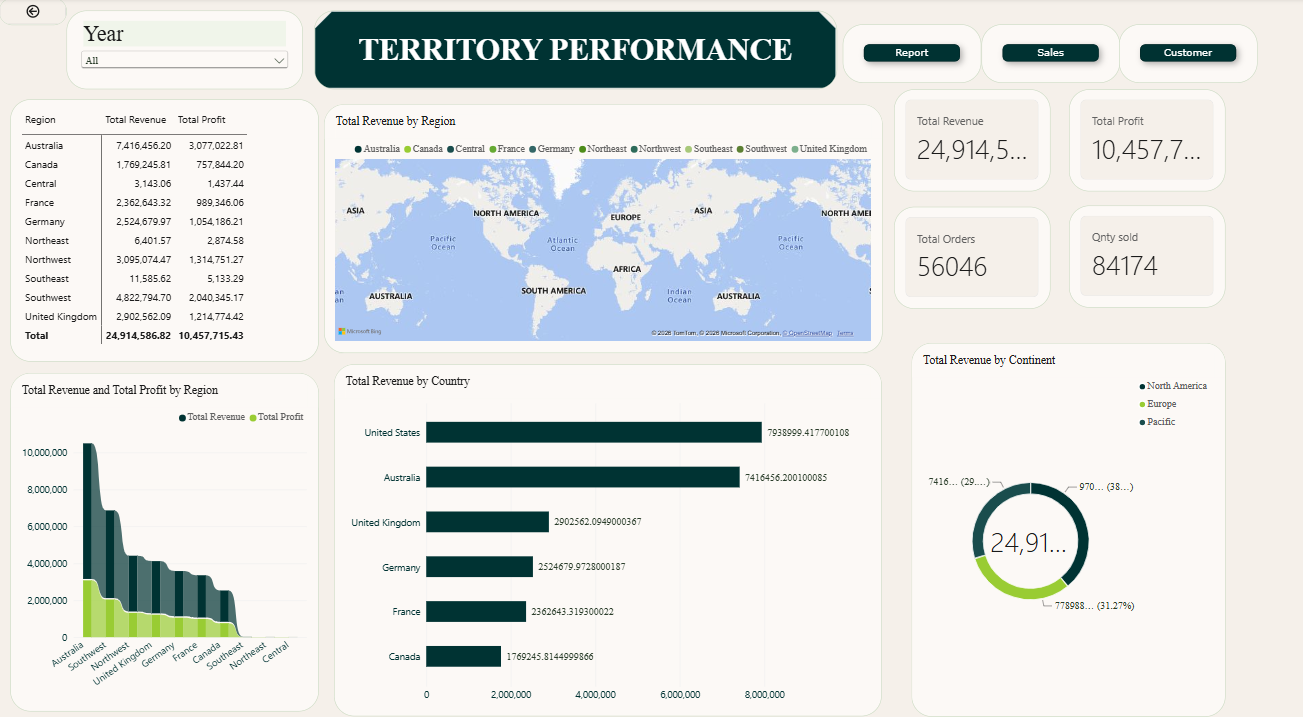

The dashboard page shown, as its layout file describes it:
{"tool":"powerbi","page":{"name":"Territory","canvas":[1920,1080],"ordinal":3},"visuals":[{"type":"actionButton","box":[0,0,100,40],"z":0},{"type":"shape","box":[464,18,770,116],"z":1000},{"type":"shape","box":[1242,38,204,86],"z":2000},{"type":"shape","box":[1446,38,204,86],"z":3000},{"type":"shape","box":[1650,38,204,86],"z":4000},{"type":"slicer","fields":{"Values":["Calender Lookup.Year"]},"box":[100,18,348,116],"z":5000},{"type":"cardVisual","fields":{"Data":["Measure Table.Total Revenue"]},"box":[1318,134,230,150],"z":6000},{"type":"cardVisual","fields":{"Data":["Measure Table.Total Profit"]},"box":[1576,134,230,150],"z":7000},{"type":"cardVisual","fields":{"Data":["Measure Table.Total Orders"]},"box":[1318,308,230,150],"z":8000},{"type":"cardVisual","fields":{"Data":["Measure Table.Qnty sold"]},"box":[1576,306,230,150],"z":9000},{"type":"map","fields":{"Series":["Territory Lookup.Region"],"Size":["Measure Table.Total Revenue"]},"box":[478,156,822,366],"z":10000},{"type":"clusteredBarChart","fields":{"Category":["Territory Lookup.Country"],"Y":["Measure Table.Total Revenue"]},"box":[494,540,806,518],"z":11000},{"type":"donutChart","fields":{"Category":["Territory Lookup.Continent"],"Y":["Measure Table.Total Revenue"]},"box":[1344,508,462,550],"z":12000},{"type":"pivotTable","fields":{"Rows":["Territory Lookup.Region"],"Values":["Measure Table.Total Revenue","Measure Table.Total Profit"]},"box":[16,150,454,386],"z":13000},{"type":"ribbonChart","fields":{"Category":["Territory Lookup.Region"],"Y":["Measure Table.Total Revenue","Measure Table.Total Profit"]},"box":[16,552,454,498],"z":14000}]}

Visuals, with their boxes in screenshot pixels (x1, y1, x2, y2), scaled from the page's 1920x1080 canvas onto the 1303x717 screenshot:
actionButton: 0,0,68,27
shape: 315,12,837,89
shape: 843,25,981,82
shape: 981,25,1120,82
shape: 1120,25,1258,82
slicer - Calender Lookup.Year: 68,12,304,89
cardVisual - Measure Table.Total Revenue: 894,89,1051,189
cardVisual - Measure Table.Total Profit: 1070,89,1226,189
cardVisual - Measure Table.Total Orders: 894,204,1051,304
cardVisual - Measure Table.Qnty sold: 1070,203,1226,303
map - Territory Lookup.Region x Measure Table.Total Revenue: 324,104,882,347
clusteredBarChart - Territory Lookup.Country x Measure Table.Total Revenue: 335,358,882,702
donutChart - Territory Lookup.Continent x Measure Table.Total Revenue: 912,337,1226,702
pivotTable - Territory Lookup.Region x Measure Table.Total Revenue: 11,100,319,356
ribbonChart - Territory Lookup.Region x Measure Table.Total Revenue: 11,366,319,697
